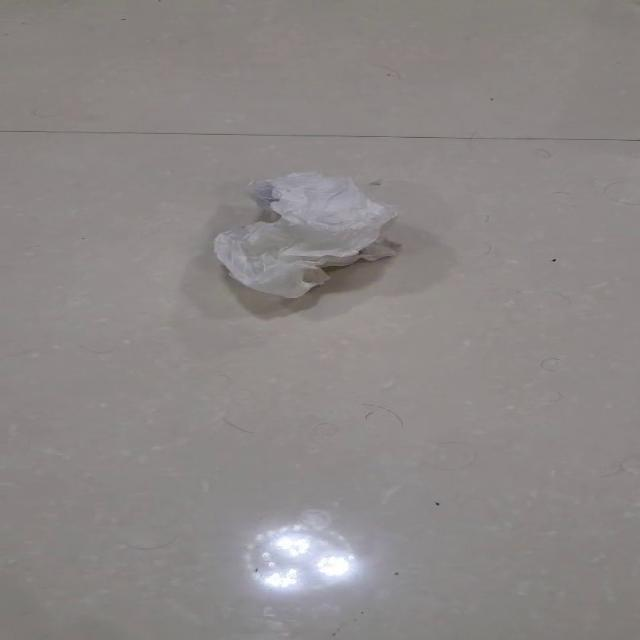plastic: (212, 170, 399, 299)
